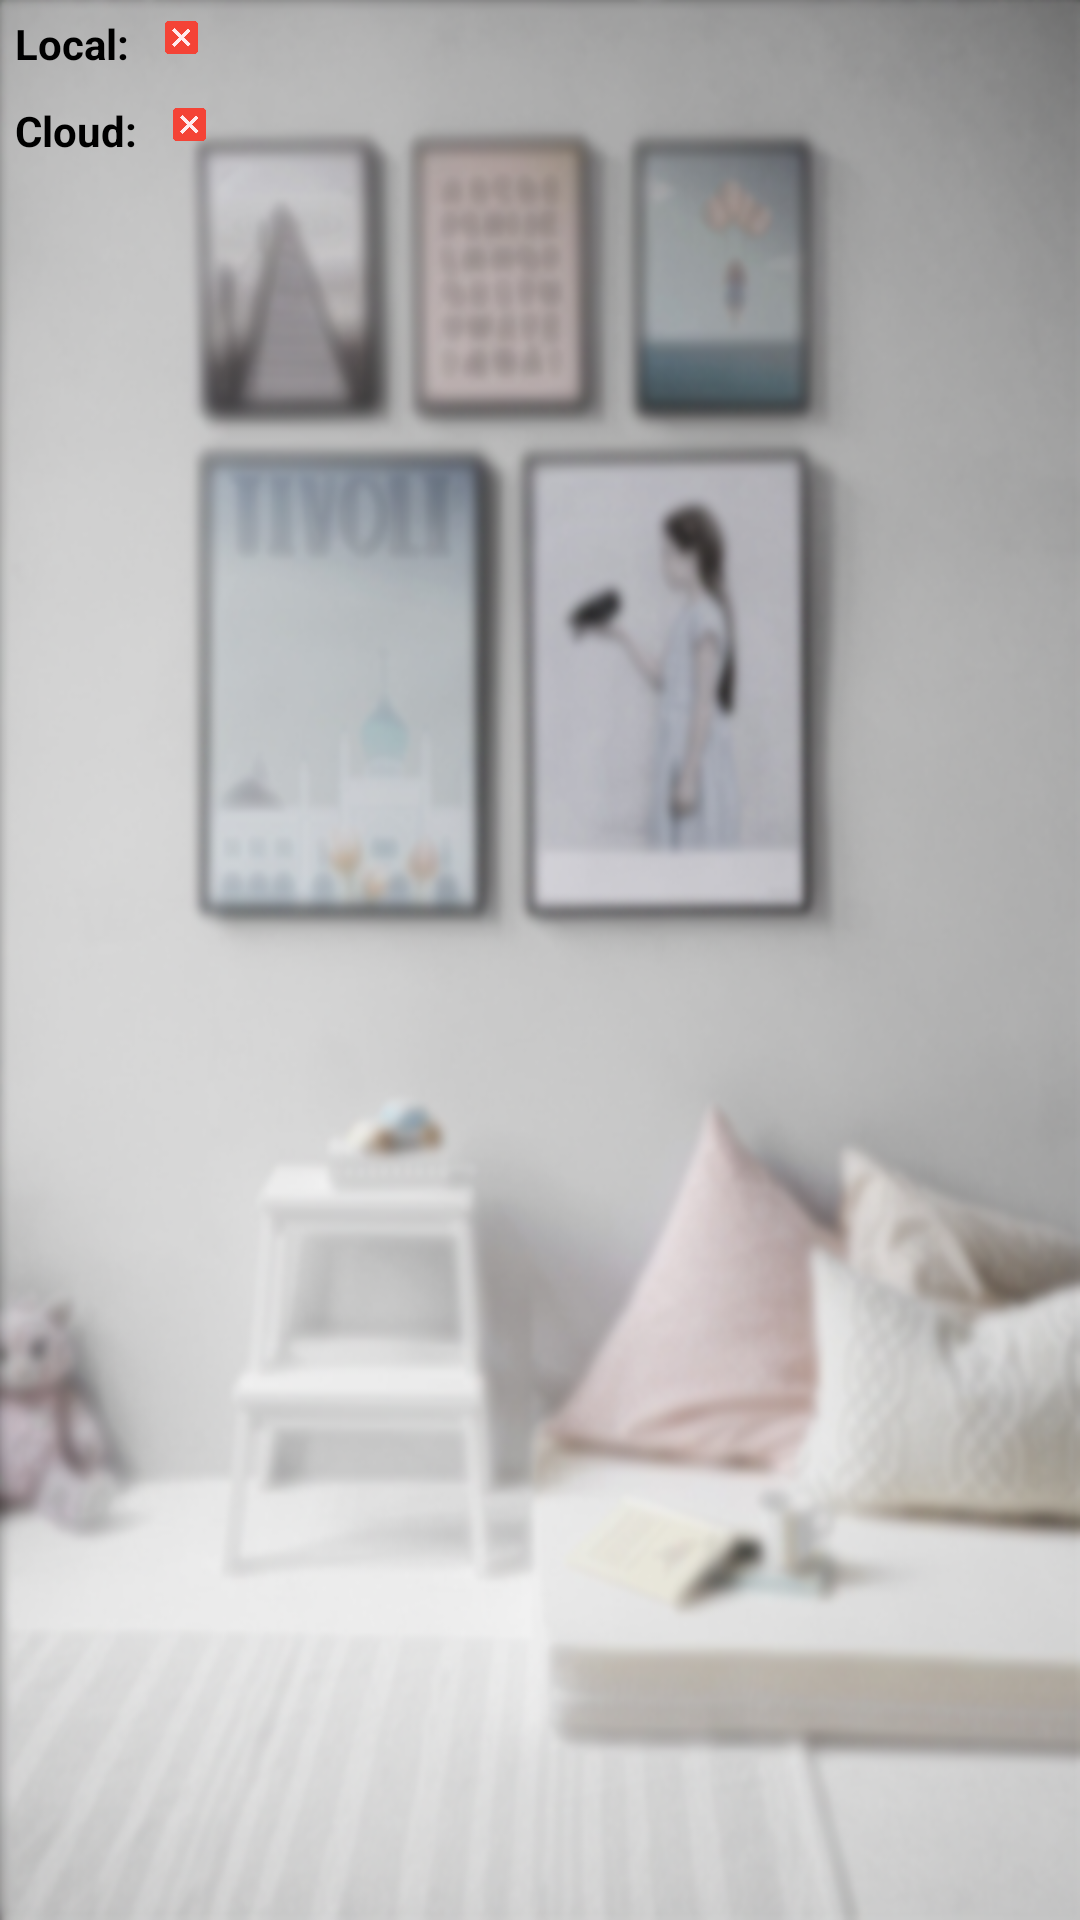

Locate icon controls on the screen. Image size 1080 × 1920, boxes as bbox(x1, y1, x2, y2).
disconnected: bbox(165, 21, 198, 54), bbox(173, 108, 212, 147)
